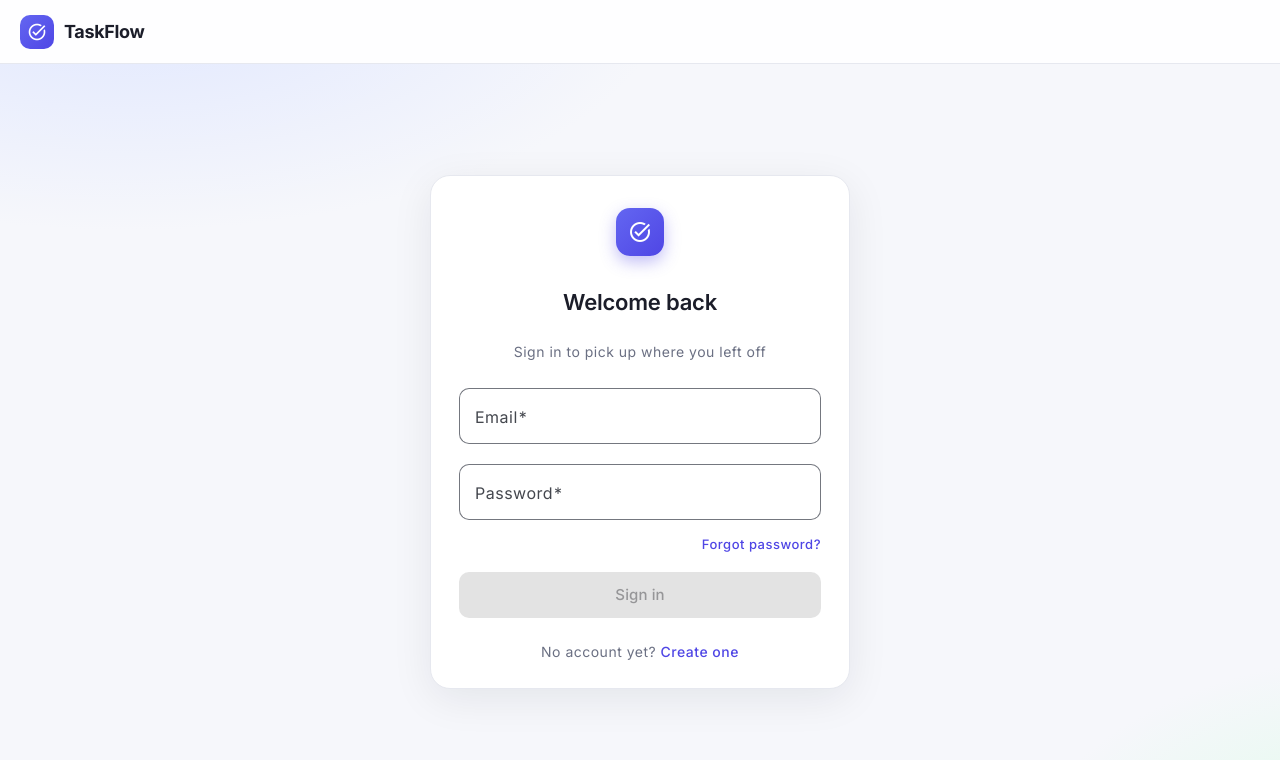
Test case: Authentication › logs in and lands on the task board
This screenshot has width=1280, height=760.
In the field with test id "email": point(640, 416) x1=475 y1=404 x2=805 y2=428, type "alice@test.com"
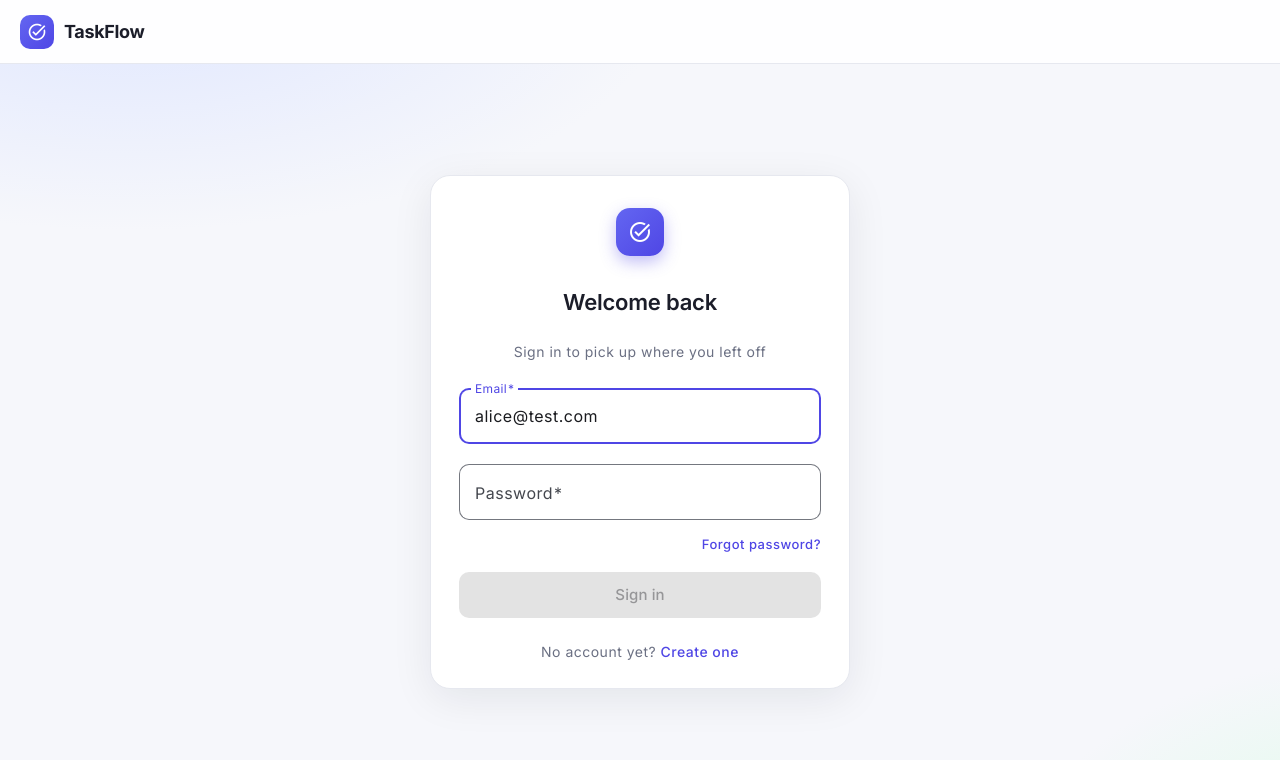
In the password field with test id "password": point(640, 492) x1=475 y1=480 x2=805 y2=504, type "password123"
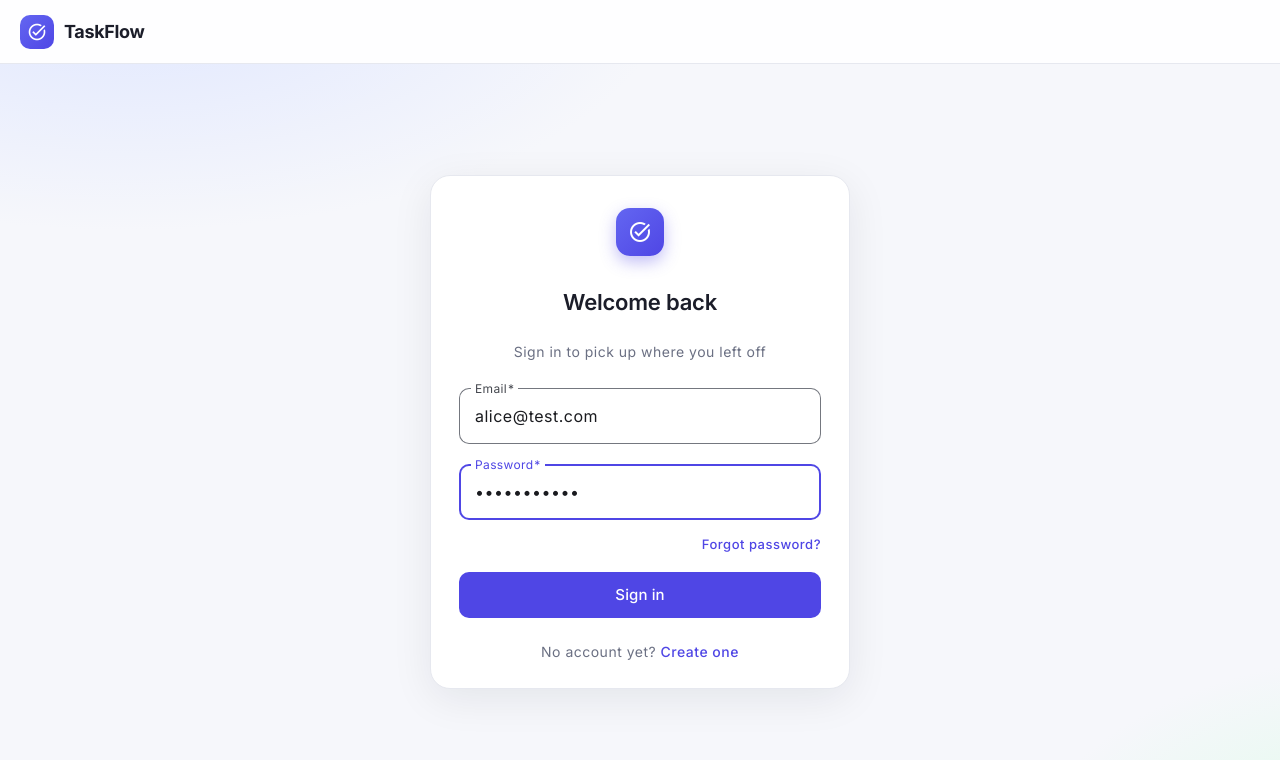
Click the button with test id "submit": point(640, 595) x1=459 y1=572 x2=821 y2=618
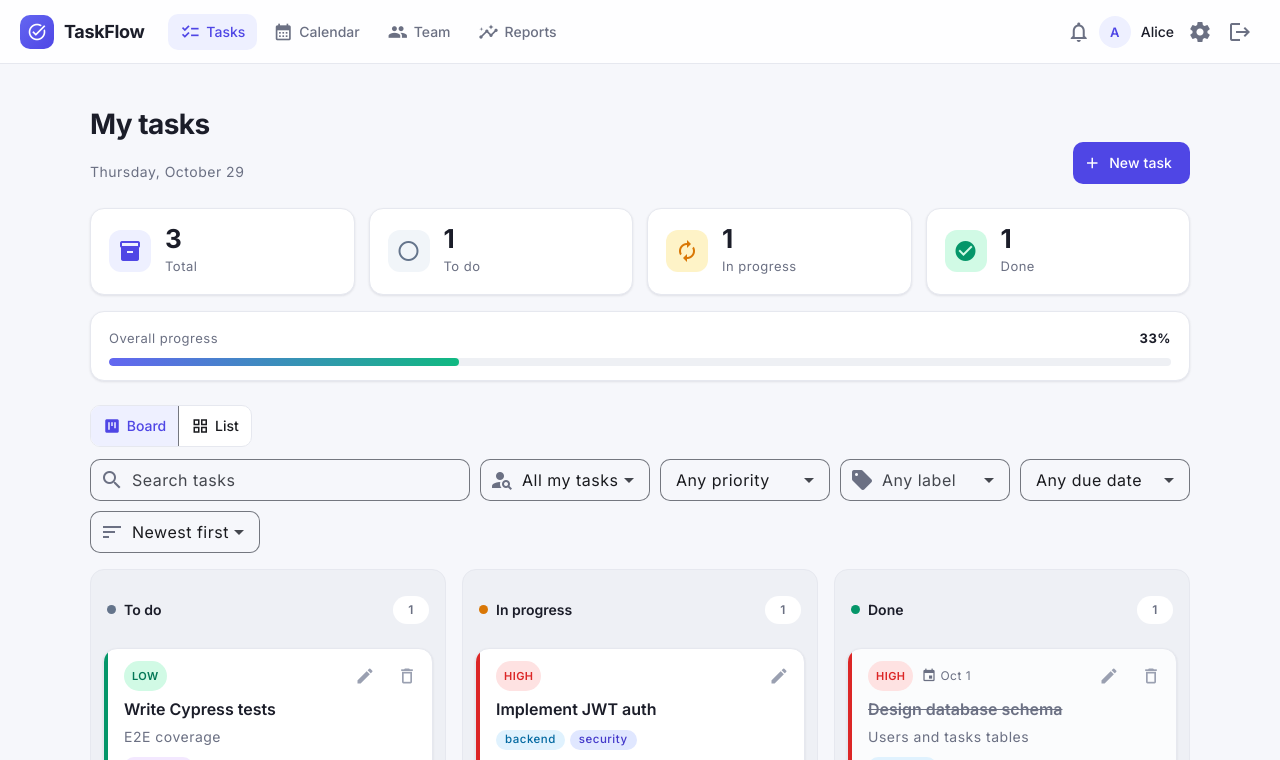
Expected: the text "Alice" is shown, x1=1141 y1=18 x2=1174 y2=46
